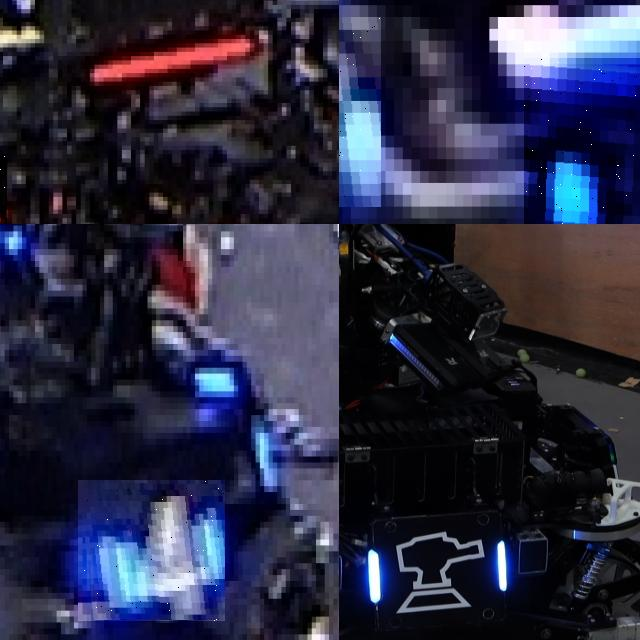B3: (524, 58, 640, 224), (339, 17, 381, 206)
B4: (78, 480, 225, 622)
Bs: (362, 524, 508, 617)
